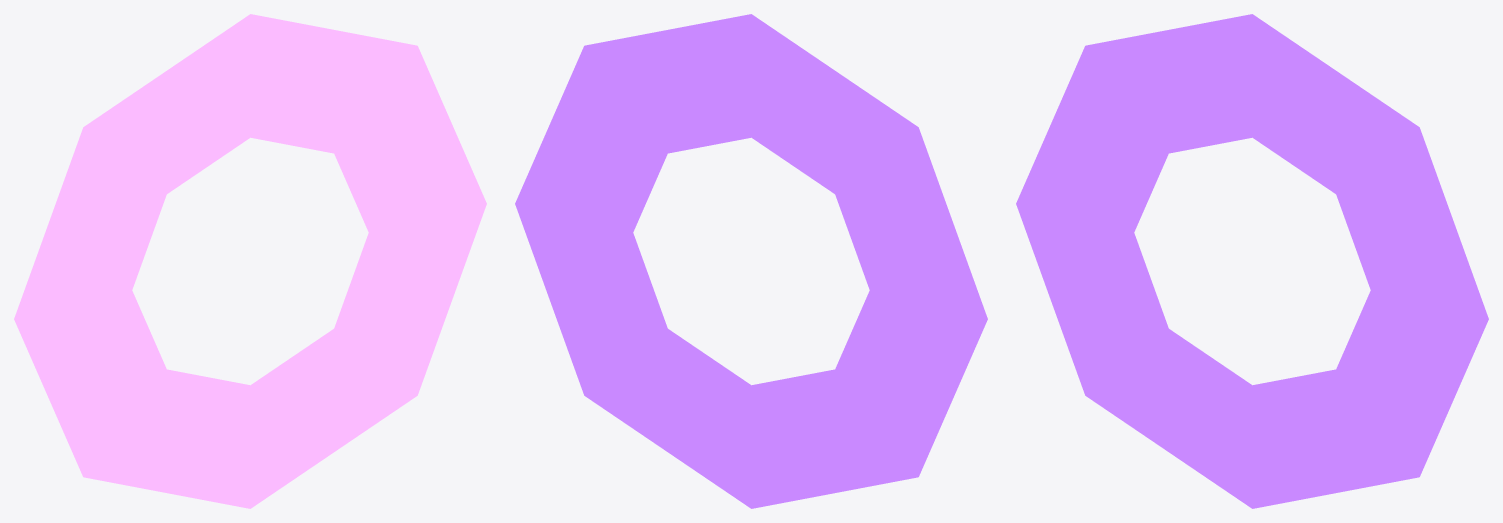
Rendered from ring.gltf.
The picture shows the model from 3 angles, left to right: view 1: azimuth 30°, elevation 25°; view 2: azimuth 150°, elevation 25°; view 3: azimuth 330°, elevation 25°; orthographic projection.
Visible parts, largest first — view 1: Ring; view 2: Ring; view 3: Ring.
Boxes of the visible parts, box(x1,y1,x2,y2) form: Ring: box(14, 14, 486, 508); Ring: box(515, 14, 987, 508); Ring: box(1016, 14, 1488, 508).
Bounding box in the file's own units: 2 × 2 × 0.
